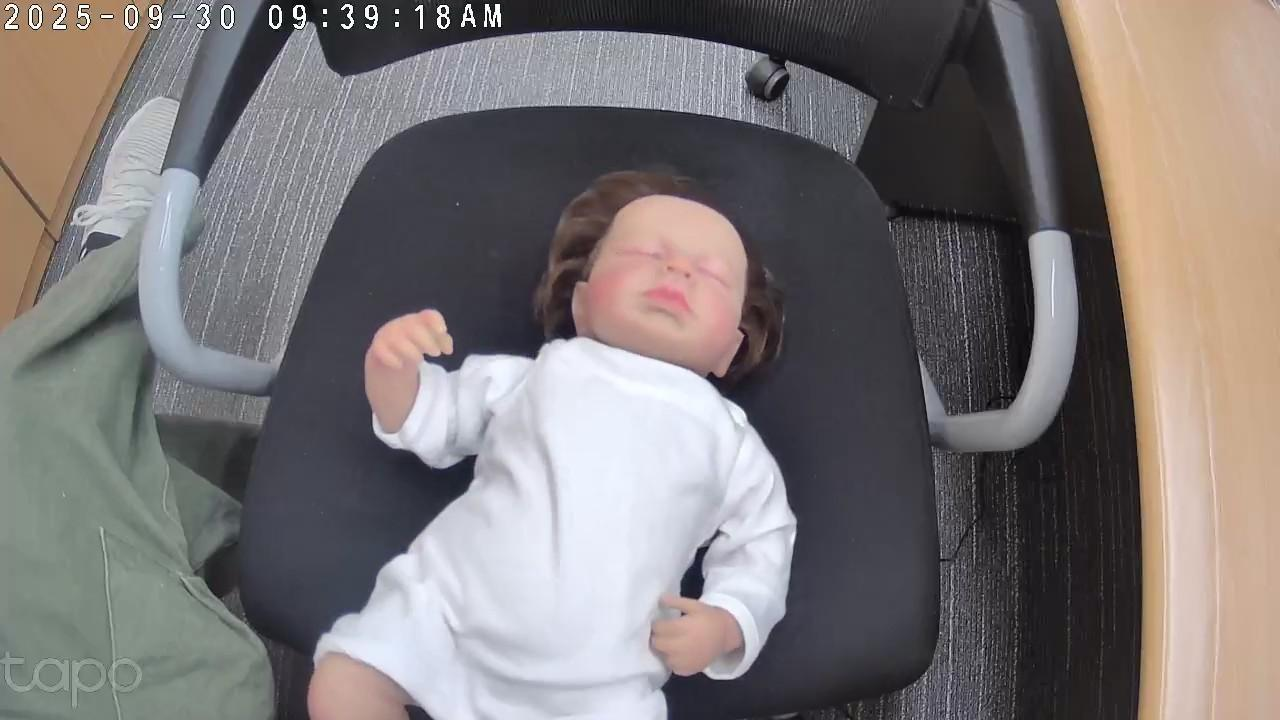hand: (647, 592, 724, 680), (367, 311, 452, 373)
